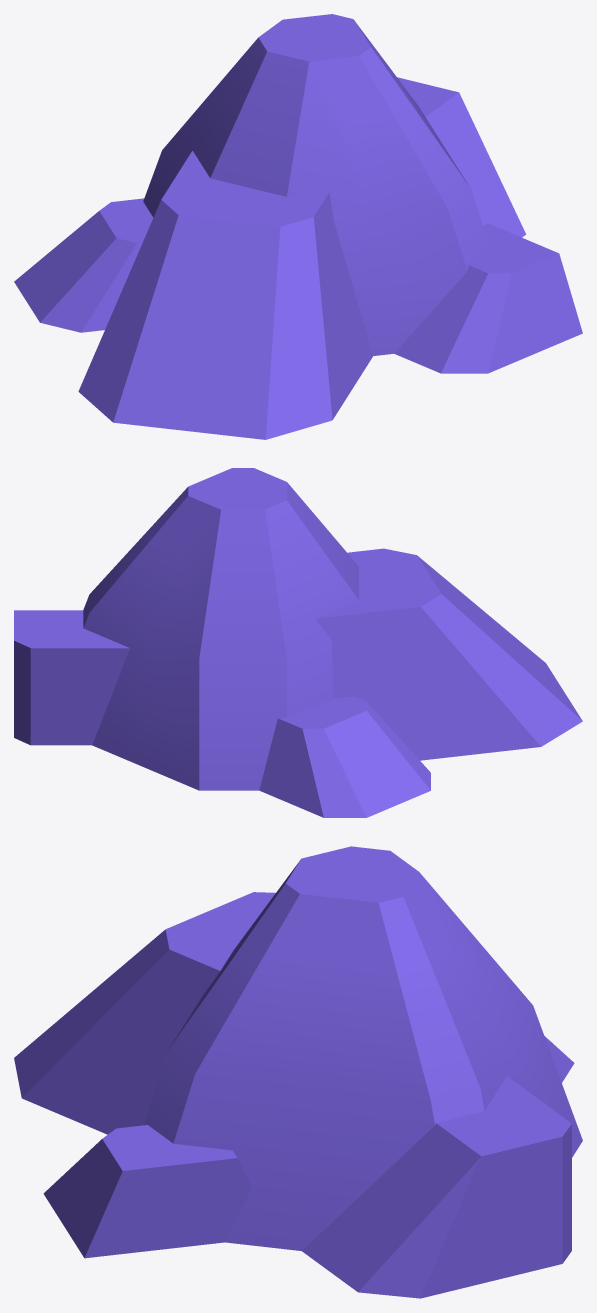
The model's file is rock_big.fbx.
3 views of the same model, one above another, from view 1: azimuth 30°, elevation 25°; view 2: azimuth 150°, elevation 25°; view 3: azimuth 270°, elevation 25° (orthographic). The views are drawn at different scales.
Parts seen in each view (by area): view 1: mergedBlocks; view 2: mergedBlocks; view 3: mergedBlocks.
Boxes of the visible parts, left/top/right/bottom form: mergedBlocks: left=14, top=14, right=582, bottom=439; mergedBlocks: left=14, top=468, right=582, bottom=817; mergedBlocks: left=14, top=846, right=582, bottom=1298.
Size of the model in its own units: 43.14 by 20 by 34.99.
